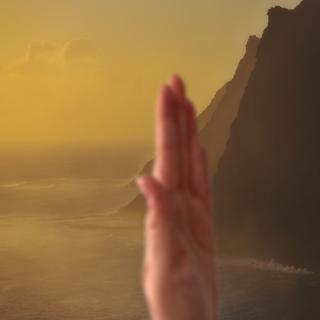Right: (121, 65, 227, 311)
